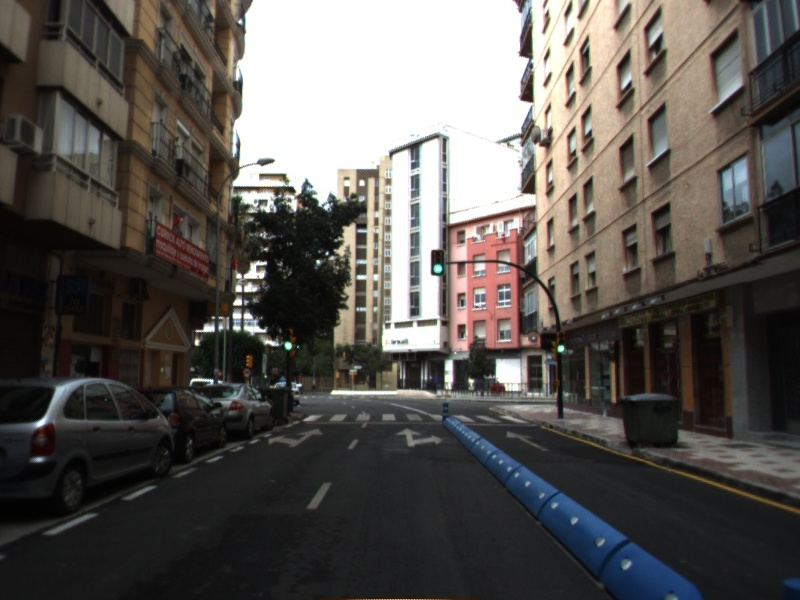STRAIGHT: (504, 428, 553, 453)
STRAIGHT_LEFT: (265, 426, 326, 449)
STRAIGHT_RIGHT: (393, 426, 446, 449)
